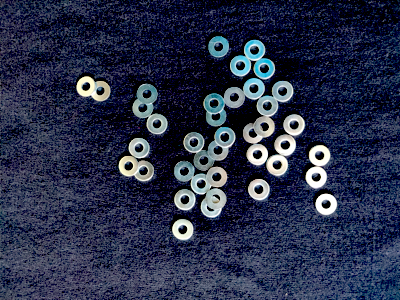circle: (266, 154, 291, 178), (307, 143, 332, 167), (304, 166, 329, 190), (314, 192, 338, 217), (117, 153, 140, 179), (127, 136, 151, 160), (171, 218, 195, 241), (173, 189, 197, 212), (203, 91, 226, 115), (223, 86, 247, 109), (243, 39, 267, 62), (282, 114, 306, 137), (271, 81, 296, 103), (131, 97, 154, 120), (207, 139, 230, 162), (247, 179, 270, 202), (135, 83, 159, 105), (206, 36, 230, 58), (194, 149, 216, 173), (242, 78, 266, 100), (256, 96, 281, 117), (145, 113, 168, 135), (133, 159, 155, 182), (173, 160, 196, 182), (190, 173, 212, 196), (243, 122, 265, 145), (247, 143, 269, 166), (89, 80, 111, 102), (214, 127, 236, 149), (254, 116, 276, 138), (184, 131, 205, 154), (206, 188, 227, 211), (253, 58, 276, 79), (229, 55, 252, 76), (274, 135, 297, 156), (201, 197, 222, 219), (206, 106, 228, 127), (77, 76, 97, 98), (207, 167, 227, 188)
